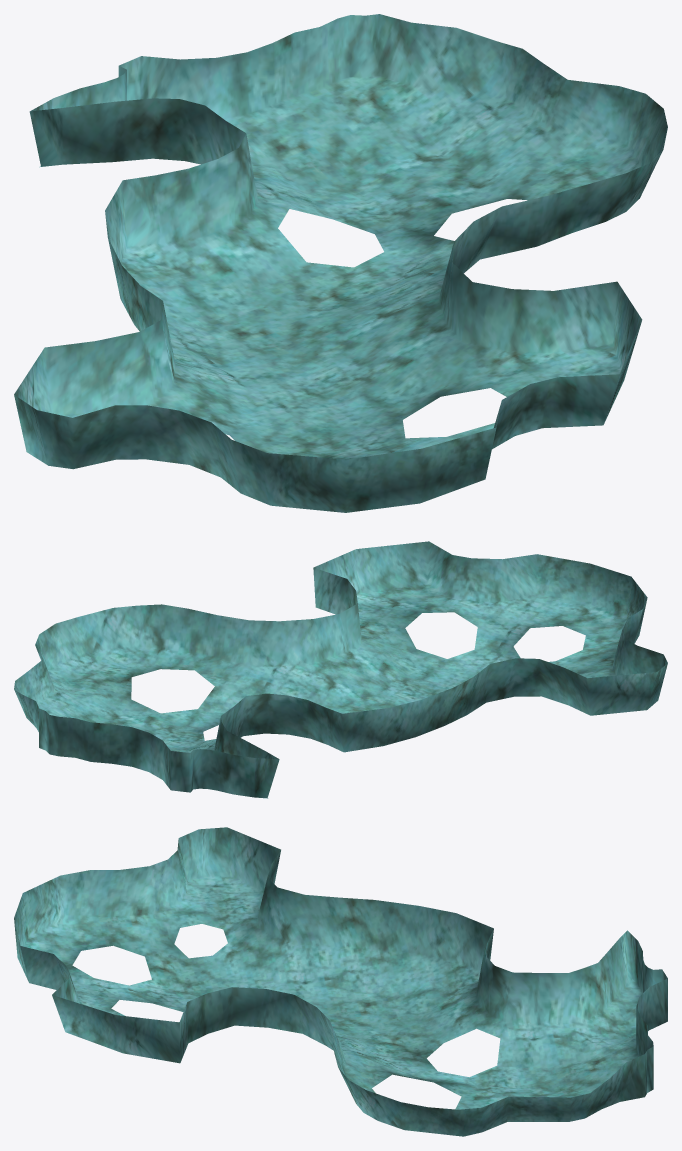
Rendered from EKH_THRONE_PS_TH_LAKE_BOTTOM_01.fbx.
The picture shows the model from 3 angles, top to bottom: view 1: azimuth 30°, elevation 25°; view 2: azimuth 150°, elevation 25°; view 3: azimuth 270°, elevation 25°; orthographic projection. The views are drawn at different scales.
Parts seen in each view (by area): view 1: EKH_THRONE_PS_TH_LAKE_BOTTOM_01; view 2: EKH_THRONE_PS_TH_LAKE_BOTTOM_01; view 3: EKH_THRONE_PS_TH_LAKE_BOTTOM_01.
Boxes of the visible parts, x1,y1,x2,y2 form: EKH_THRONE_PS_TH_LAKE_BOTTOM_01: [14, 14, 667, 512]; EKH_THRONE_PS_TH_LAKE_BOTTOM_01: [14, 541, 667, 798]; EKH_THRONE_PS_TH_LAKE_BOTTOM_01: [14, 827, 667, 1136].
Bounding box in the file's own units: 226619 × 27797 × 230169.
Materials: 1 (1 with a texture image).
